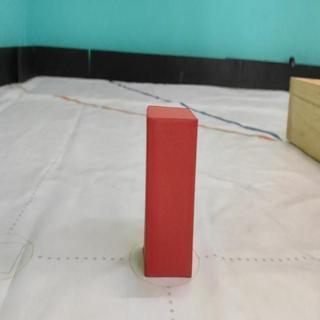redbox: (145, 105, 199, 278)
